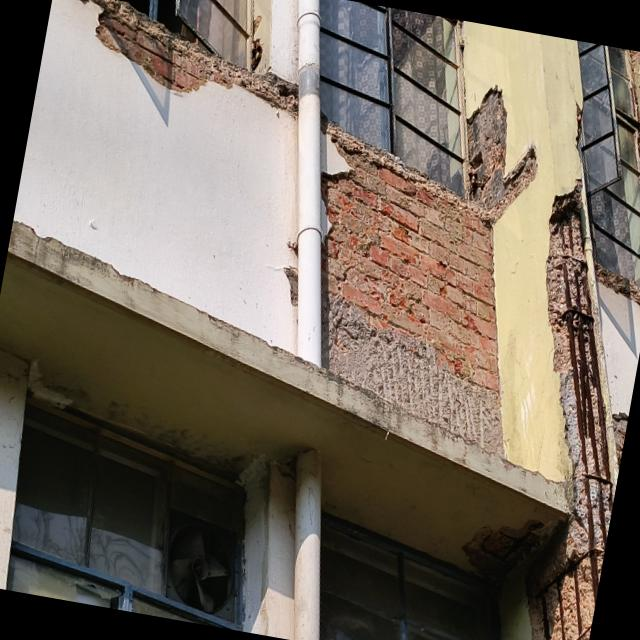Spalling: (462, 183, 612, 640), (321, 123, 501, 452), (85, 0, 295, 110), (466, 89, 536, 224), (594, 262, 640, 307), (612, 412, 628, 465)
